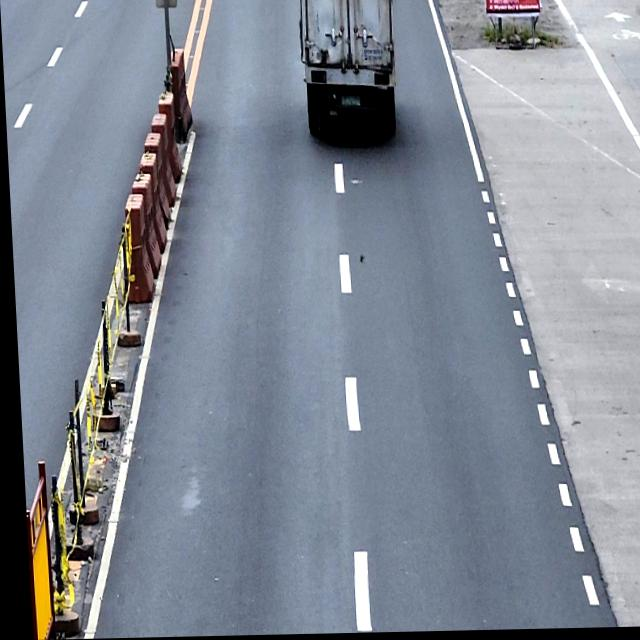License-Plate: (340, 96, 360, 108)
Truck: (297, 0, 400, 139)
